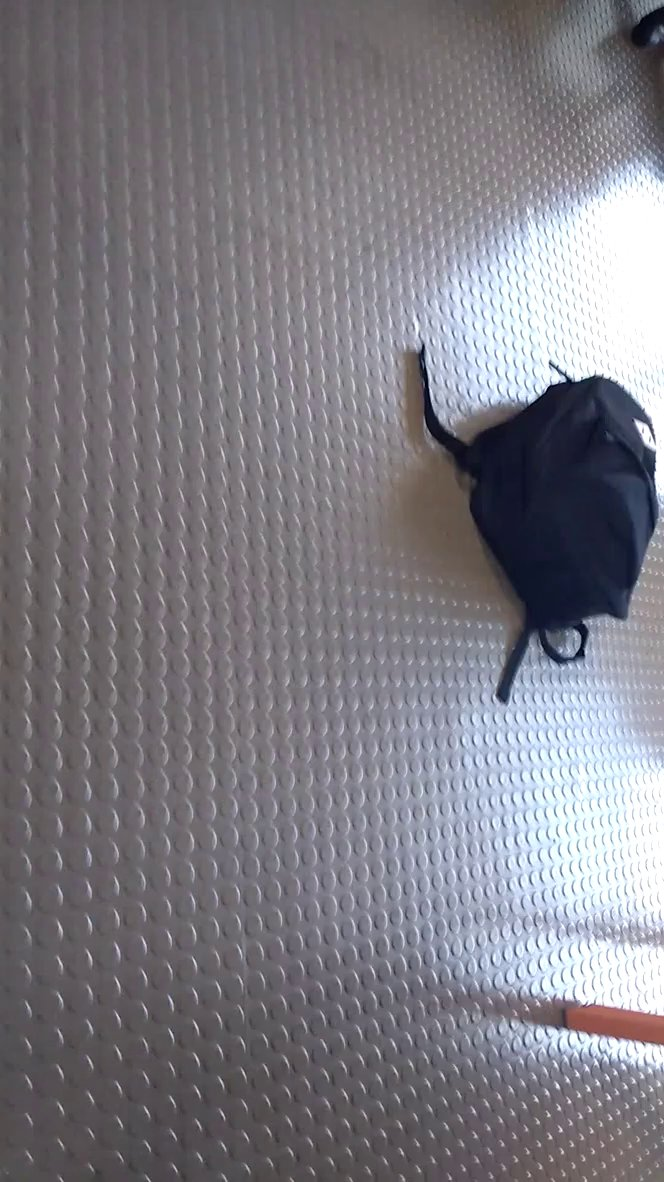bag: (407, 328, 664, 704)
